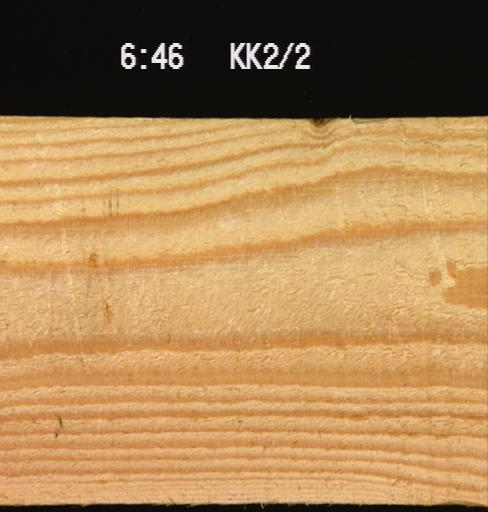edge_knot: (304, 116, 339, 128)
